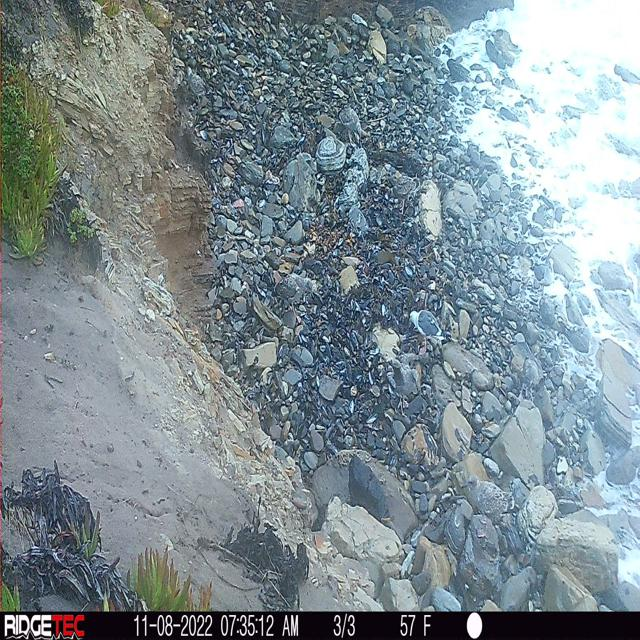bird: (402, 293, 444, 353)
